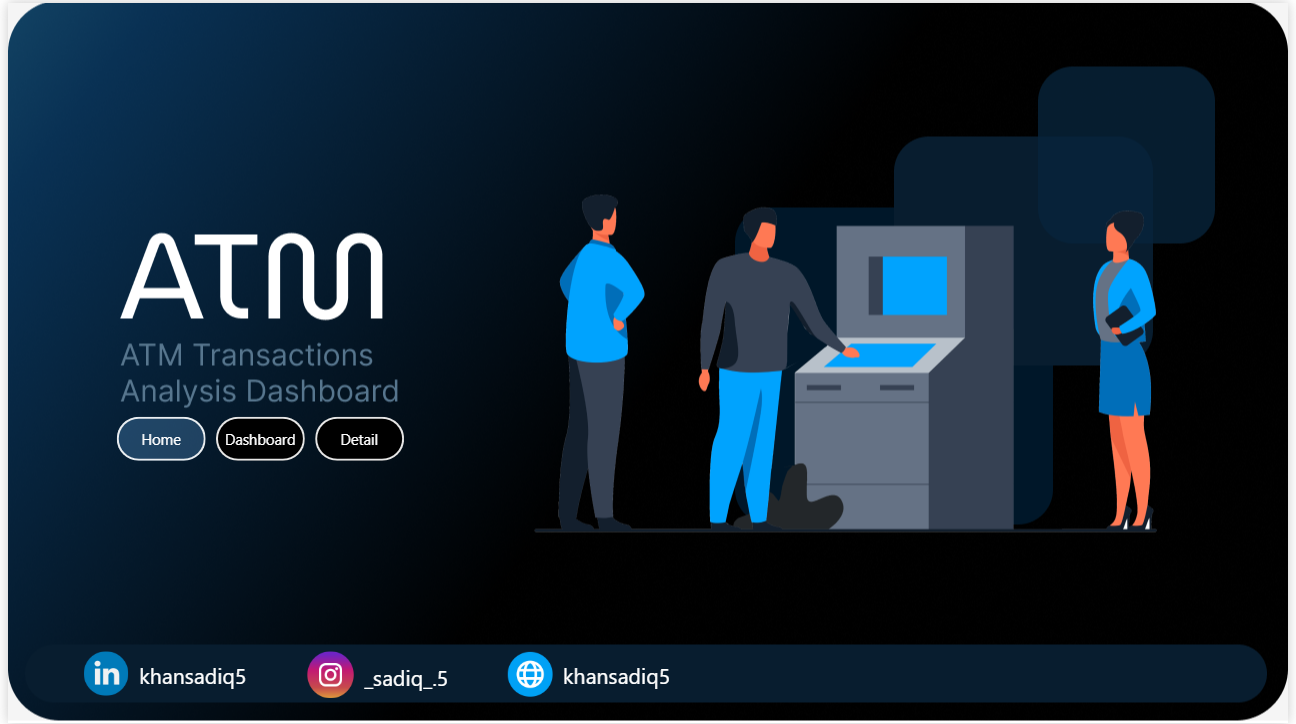

Layout of this report page (visuals, bound fields, positions):
{"tool":"powerbi","page":{"name":"Home","canvas":[1280,720],"ordinal":0},"visuals":[{"type":"pageNavigator","box":[109.3,414,288.4,44.2],"z":0},{"type":"image","box":[70.9,644.2,53.5,53.5],"z":1},{"type":"textbox","box":[126.7,652.3,126.7,45.3],"z":2},{"type":"image","box":[294.2,644.2,57,55.8],"z":3},{"type":"textbox","box":[351.2,654.7,126.7,45.3],"z":4},{"type":"image","box":[495.4,643,54.7,58.1],"z":5},{"type":"textbox","box":[550,652.3,126.7,45.3],"z":6}]}

Visuals, with their boxes in screenshot pixels (x1, y1, x2, y2), scaled from the page's 1280x720 canvas onto the 1296x724 screenshot:
pageNavigator: detection(111, 416, 403, 461)
image: detection(72, 648, 126, 702)
textbox: detection(128, 656, 257, 701)
image: detection(298, 648, 356, 704)
textbox: detection(356, 658, 484, 704)
image: detection(502, 647, 557, 705)
textbox: detection(557, 656, 685, 701)
